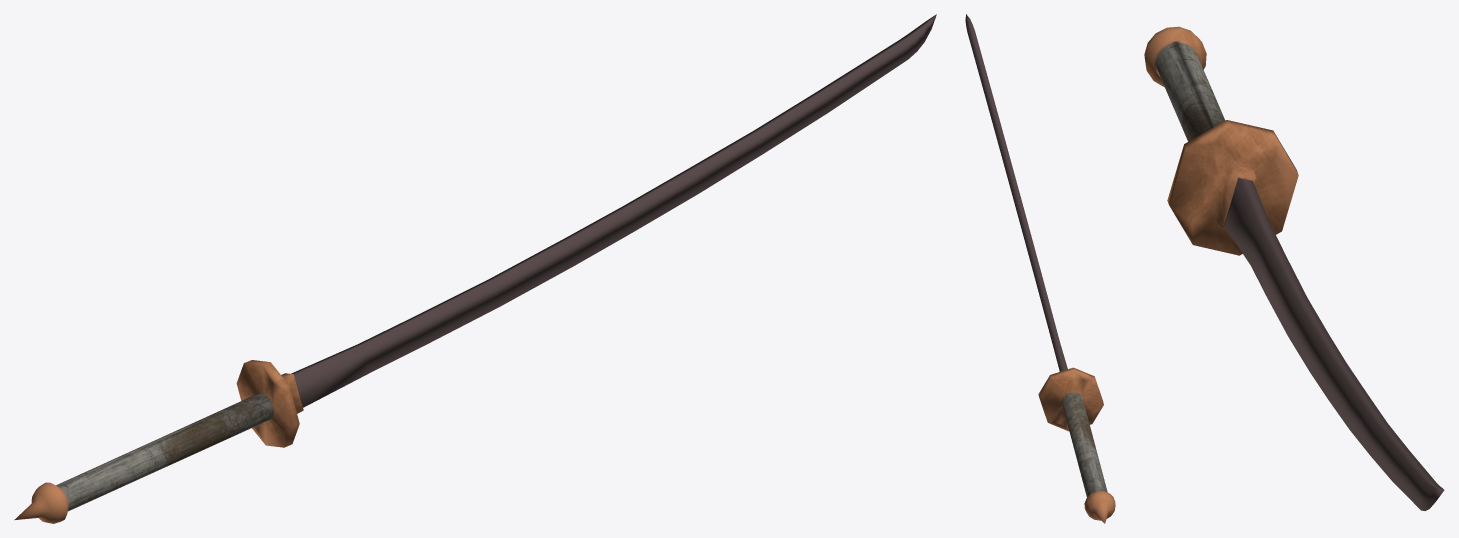
Rendered from Anim_idle_katana_objetos.0049.obj.
The picture shows the model from 3 angles, left to right: view 1: azimuth 90°, elevation 25°; view 2: azimuth 150°, elevation 25°; view 3: azimuth 330°, elevation 25°; orthographic projection. The views are drawn at different scales.
Parts seen in each view (by area): view 1: Katana1; view 2: Katana1; view 3: Katana1.
Part boxes in pixels (box(x1,y1,x2,y2)): Katana1: box(14, 14, 936, 523); Katana1: box(965, 14, 1115, 523); Katana1: box(1144, 26, 1444, 510).
Size of the model in its own units: 3.32 by 0.9992 by 4.1.
